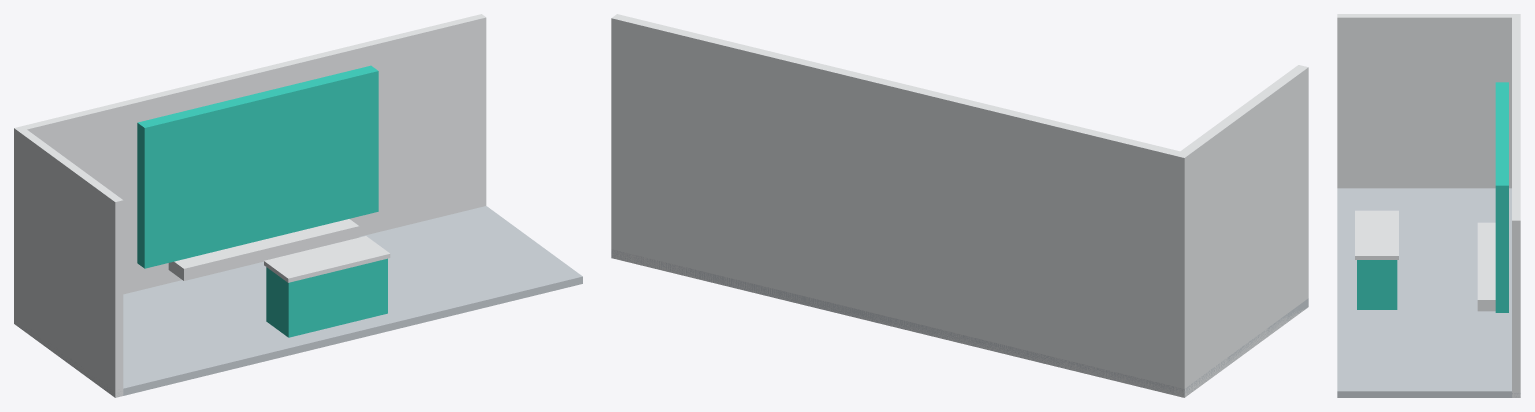
The picture shows the model from 3 angles, left to right: view 1: azimuth 30°, elevation 25°; view 2: azimuth 150°, elevation 25°; view 3: azimuth 270°, elevation 25°; orthographic projection. The views are drawn at different scales.
Parts seen in each view (by area): view 1: Exhibition Booth Concept; view 2: Exhibition Booth Concept; view 3: Exhibition Booth Concept.
Part boxes in pixels (<box>): Exhibition Booth Concept: <box>14,14,582,397</box>; Exhibition Booth Concept: <box>611,14,1308,397</box>; Exhibition Booth Concept: <box>1337,14,1520,397</box>.
Bounding box in the file's own units: 8 × 3.2 × 3.
